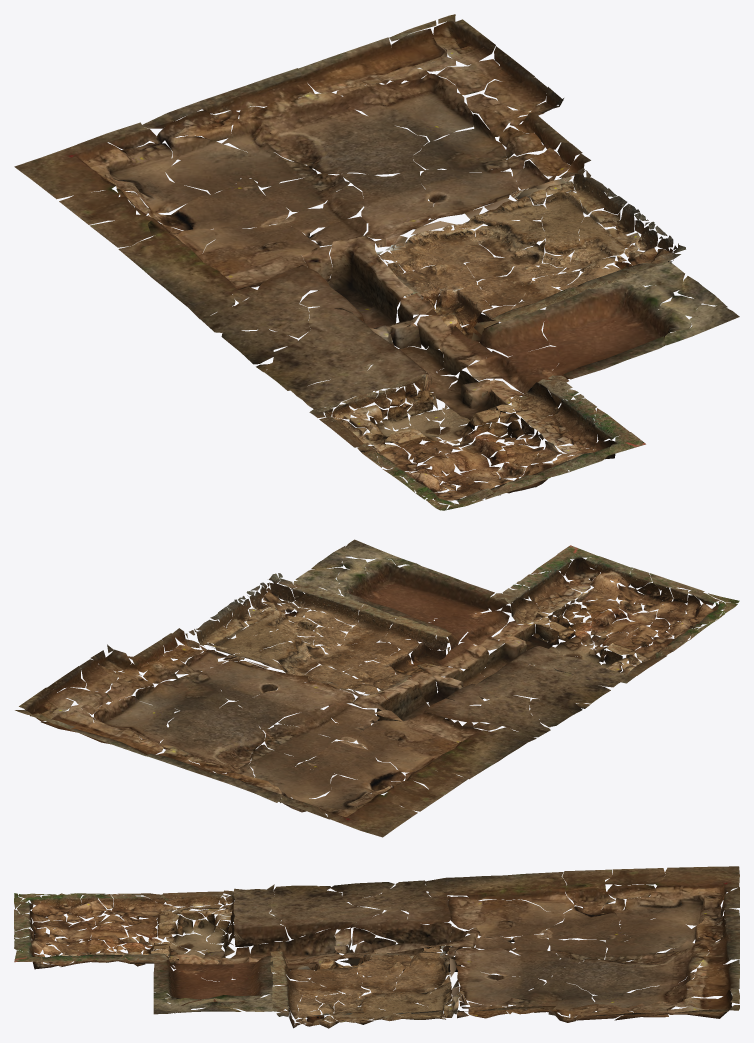
3 views of the same model, one above another, from view 1: azimuth 30°, elevation 25°; view 2: azimuth 150°, elevation 25°; view 3: azimuth 270°, elevation 25° (orthographic). The views are drawn at different scales.
Visible parts, largest first — view 1: Composicion_La_Estaca.glb; view 2: Composicion_La_Estaca.glb; view 3: Composicion_La_Estaca.glb.
Boxes of the visible parts, <box> form: Composicion_La_Estaca.glb: <box>14,14,739,510</box>; Composicion_La_Estaca.glb: <box>15,539,739,837</box>; Composicion_La_Estaca.glb: <box>14,866,739,1028</box>.
Size of the model in its own units: 12.45 by 2.65 by 20.9.
3 materials, 3 textured.
